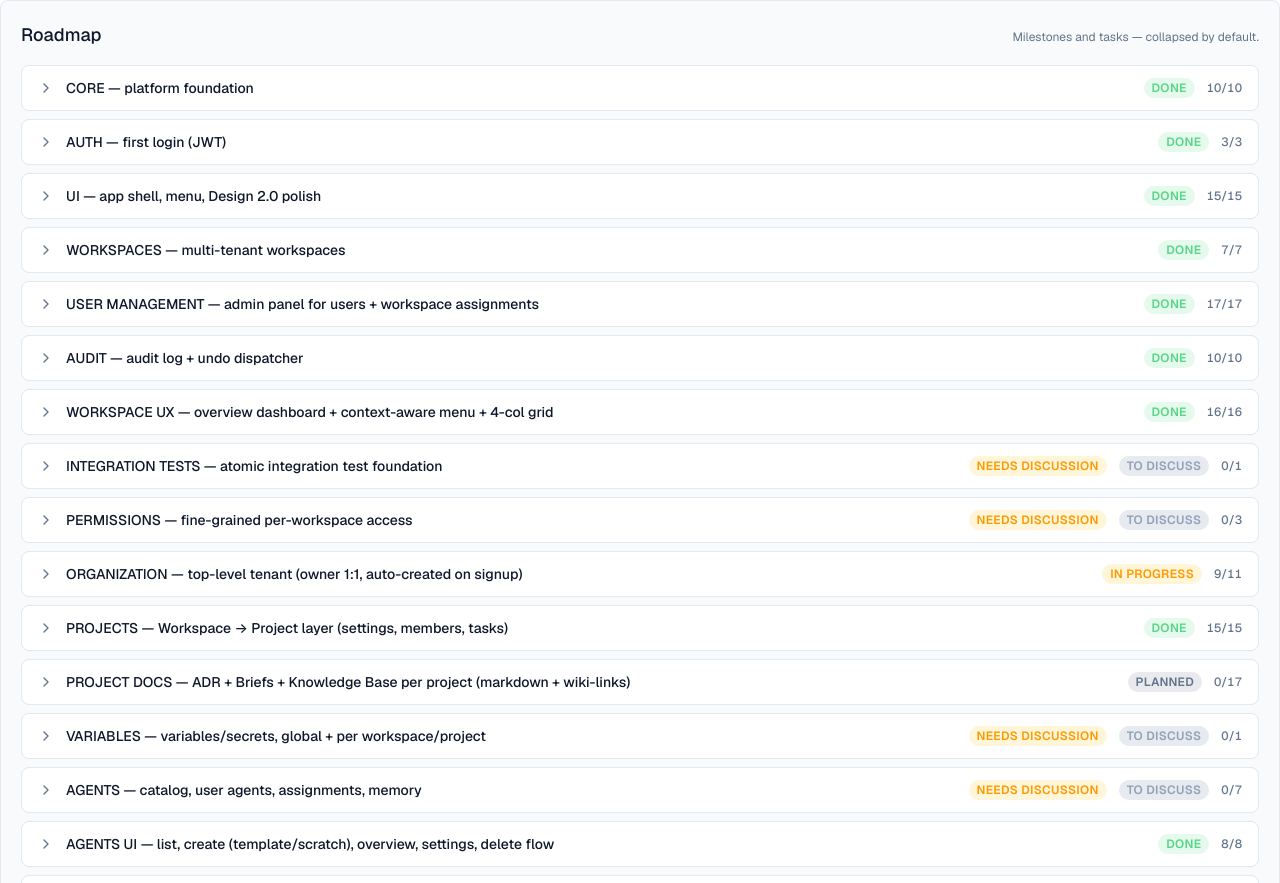
Test: RoadmapPanel › should render the AUTH milestone with its BL-AUTH tasks and commit links
The image size is (1280, 883).
Click the text "AUTH — first login (JWT)": [146, 142] box top-left (66, 133), bottom-right (226, 151)
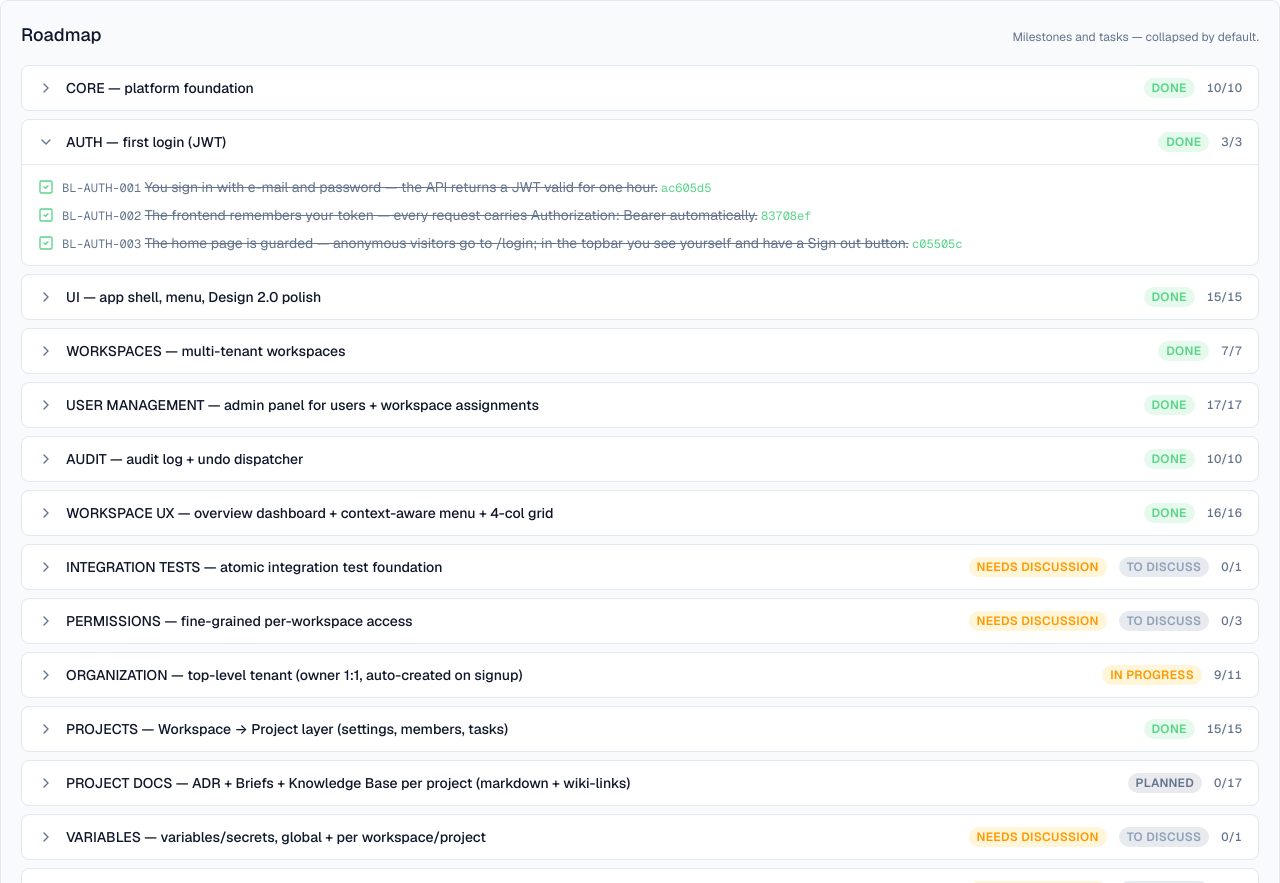
Now the text "BL-AUTH-001" is shown, box top-left (62, 180), bottom-right (141, 196)
Now the text "BL-AUTH-002" is shown, box top-left (62, 208), bottom-right (141, 224)
Now the text "BL-AUTH-003" is shown, box top-left (62, 236), bottom-right (141, 252)
